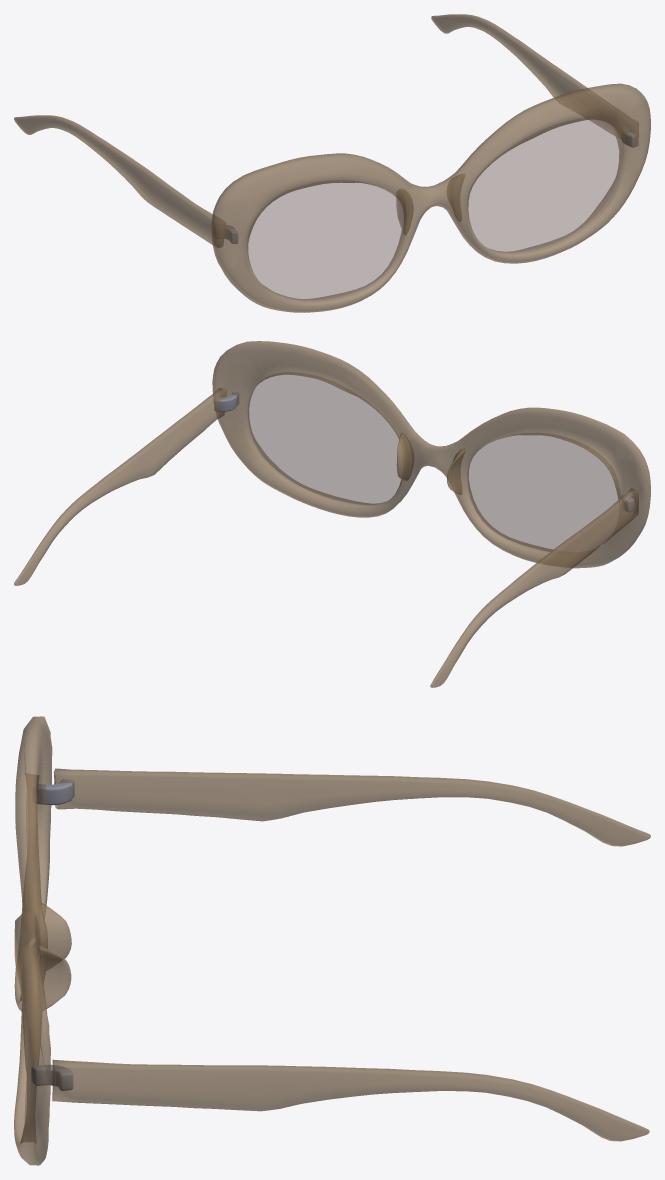
Rendered from almond.glb.
3 views of the same model, one above another, from view 1: azimuth 30°, elevation 25°; view 2: azimuth 150°, elevation 25°; view 3: azimuth 270°, elevation 25° (orthographic). The views are drawn at different scales.
Visible parts, largest first — view 1: model_8.003; view 2: model_8.003; view 3: model_8.003.
Boxes of the visible parts, box(x1,y1,x2,y2) form: model_8.003: box(14, 14, 650, 312); model_8.003: box(14, 341, 650, 687); model_8.003: box(14, 716, 650, 1165).
Bounding box in the file's own units: 2.21 × 0.7584 × 1.92.
